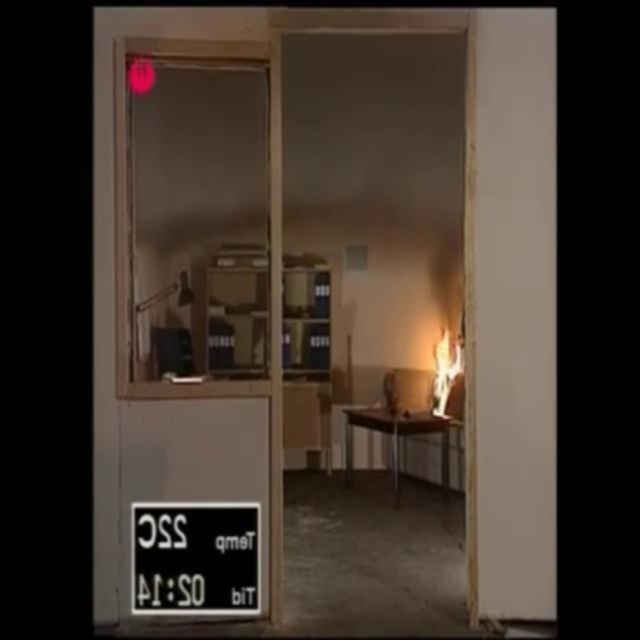fire: (404, 312, 467, 418)
